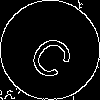C: (25, 25, 84, 84)
